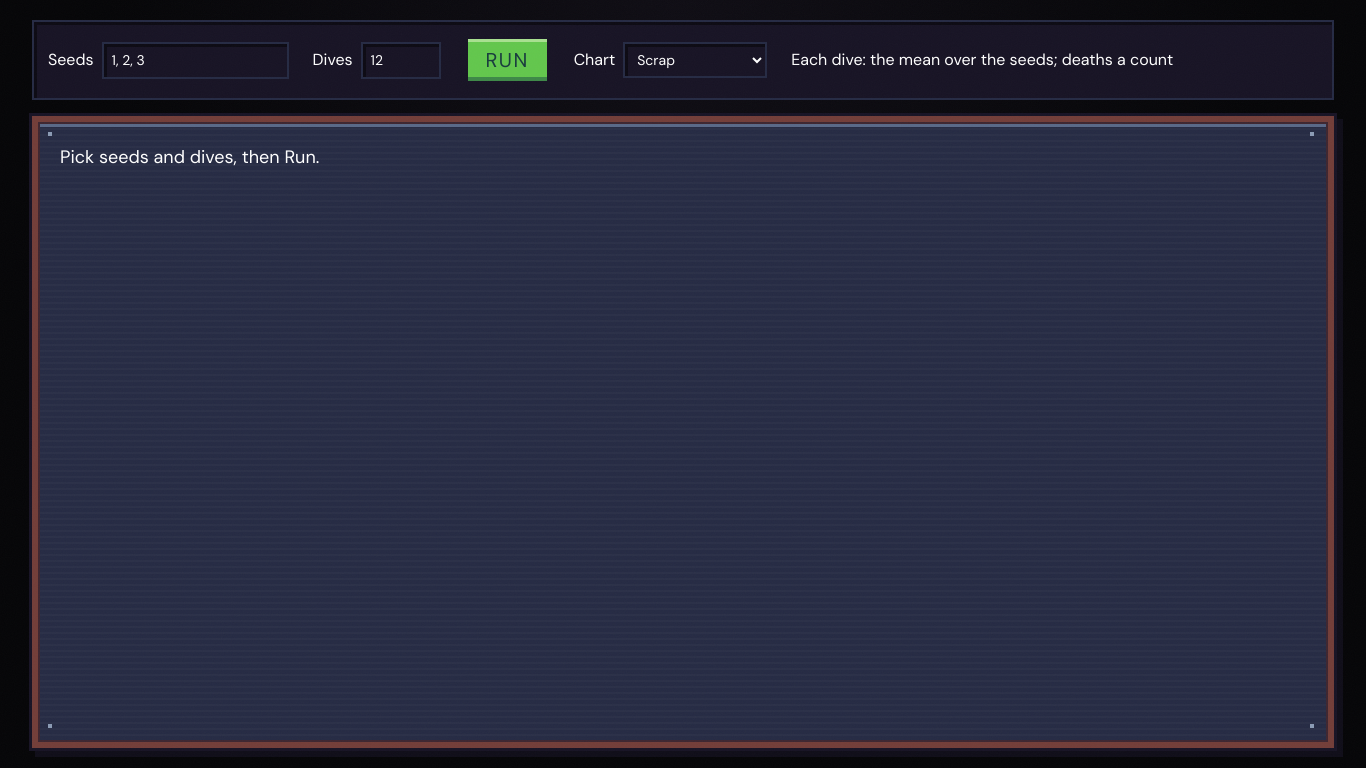
EconomyView › a throw in the worker shows the error and stops the progress bar; a new Run clears it
The image size is (1366, 768).
Click the button with test id "economy-run".
click(507, 60)  # box [464,36,550,84]
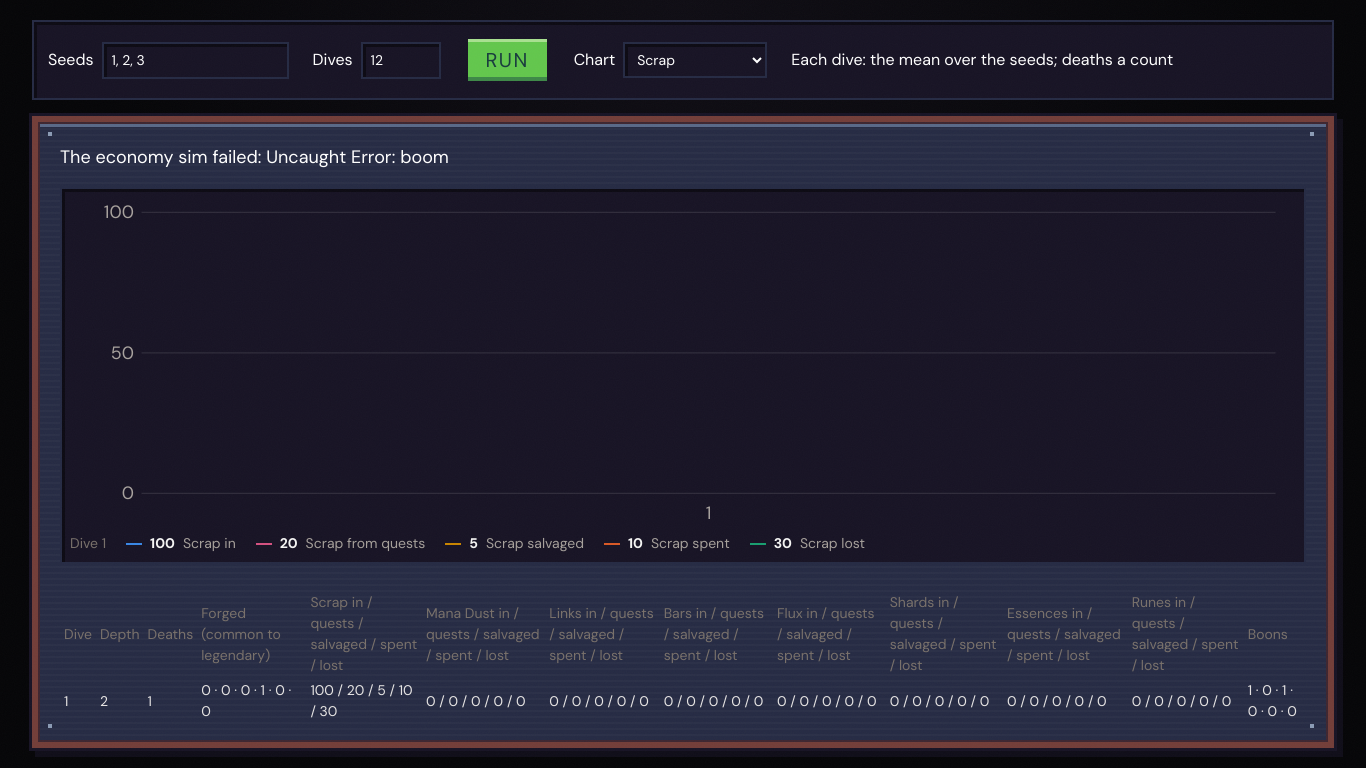
Expected: the message with test id "economy-error" shows "Uncaught Error: boom", [266,145,449,169]
Click the button with test id "economy-run".
click(507, 60)  # box [464,36,550,84]
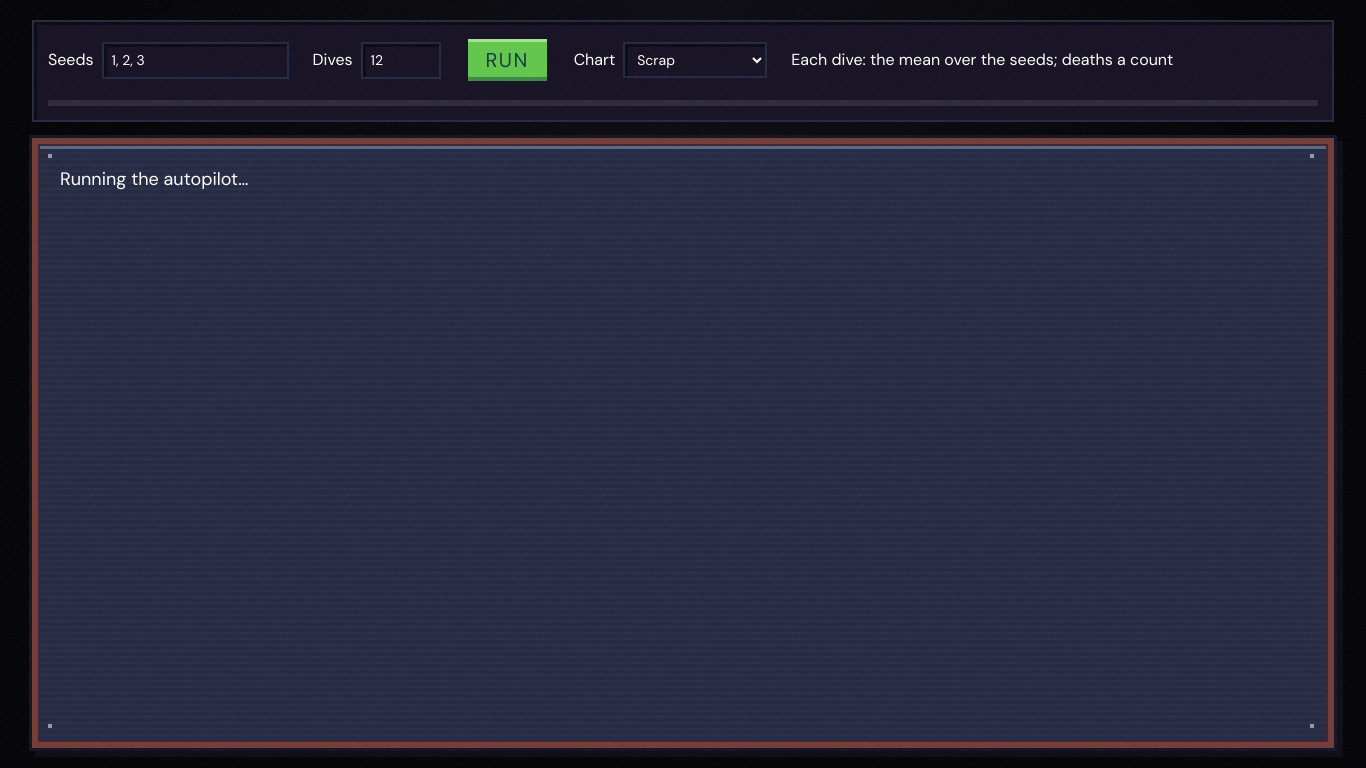
Expected: the message with test id "economy-error" is gone
Expected: the element with test id "economy-progress" is shown, [48,100,1318,106]
